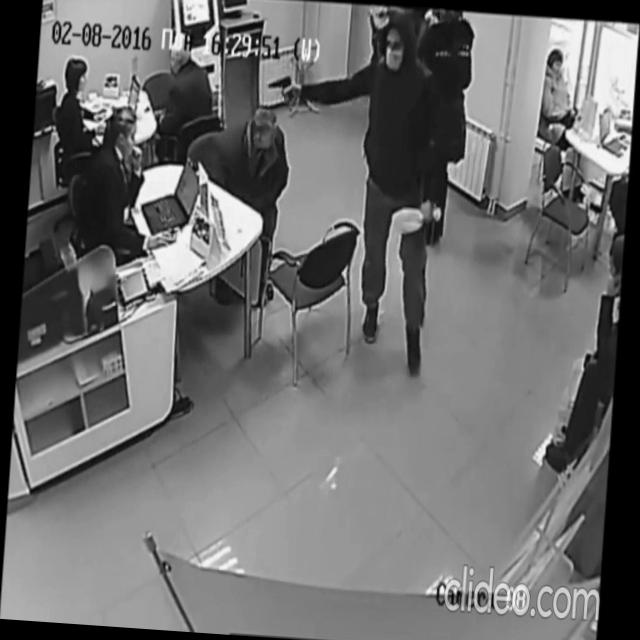gun: (266, 71, 296, 104)
person: (198, 100, 294, 310), (73, 101, 184, 262), (531, 46, 596, 204), (54, 55, 114, 173)
person with a gun: (248, 0, 452, 376)
